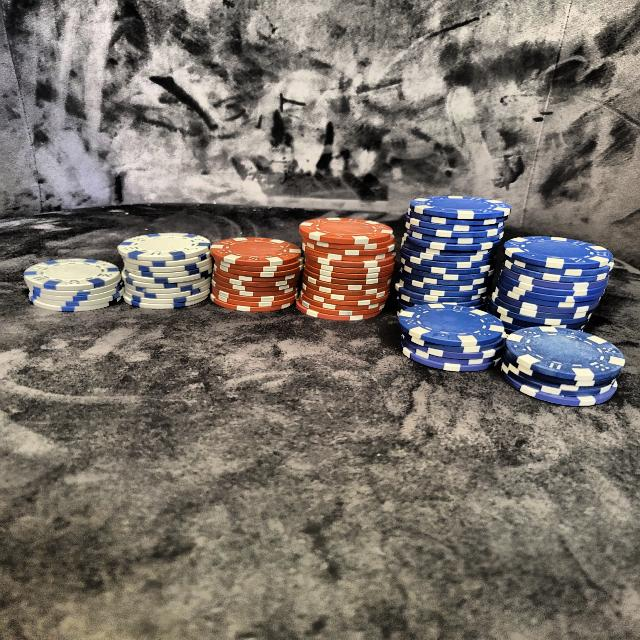Chip: (391, 175, 517, 317), (298, 204, 402, 330), (497, 323, 629, 409), (499, 238, 608, 338), (204, 230, 312, 320), (116, 222, 216, 316), (392, 303, 509, 377), (20, 247, 132, 323)
